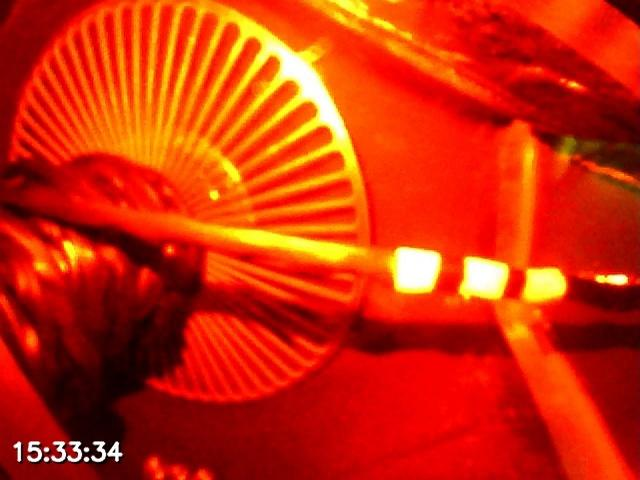white-dots: (391, 245, 568, 303)
